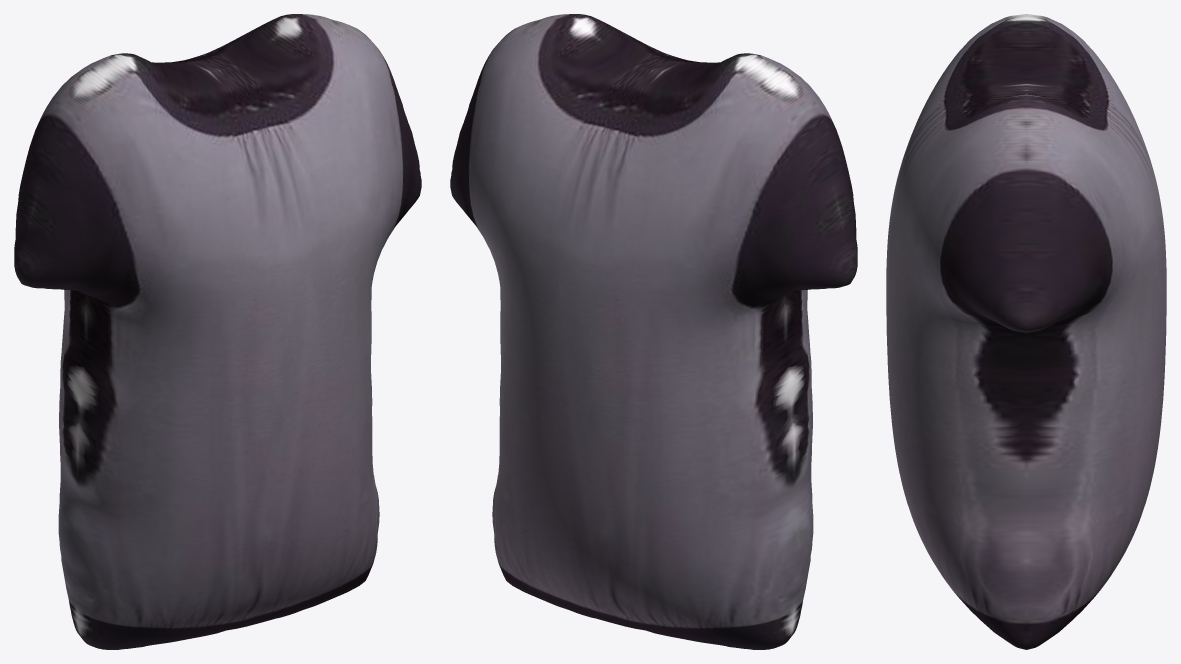
The model's file is 7SI21D054-C11@12.1=cloth_front.glb.
3 views of the same model, side by side, from view 1: azimuth 30°, elevation 25°; view 2: azimuth 150°, elevation 25°; view 3: azimuth 270°, elevation 25° (orthographic). The views are drawn at different scales.
Size of the model in its own units: 4.73 by 6.62 by 3.16.
Materials: 1 (1 with a texture image).
